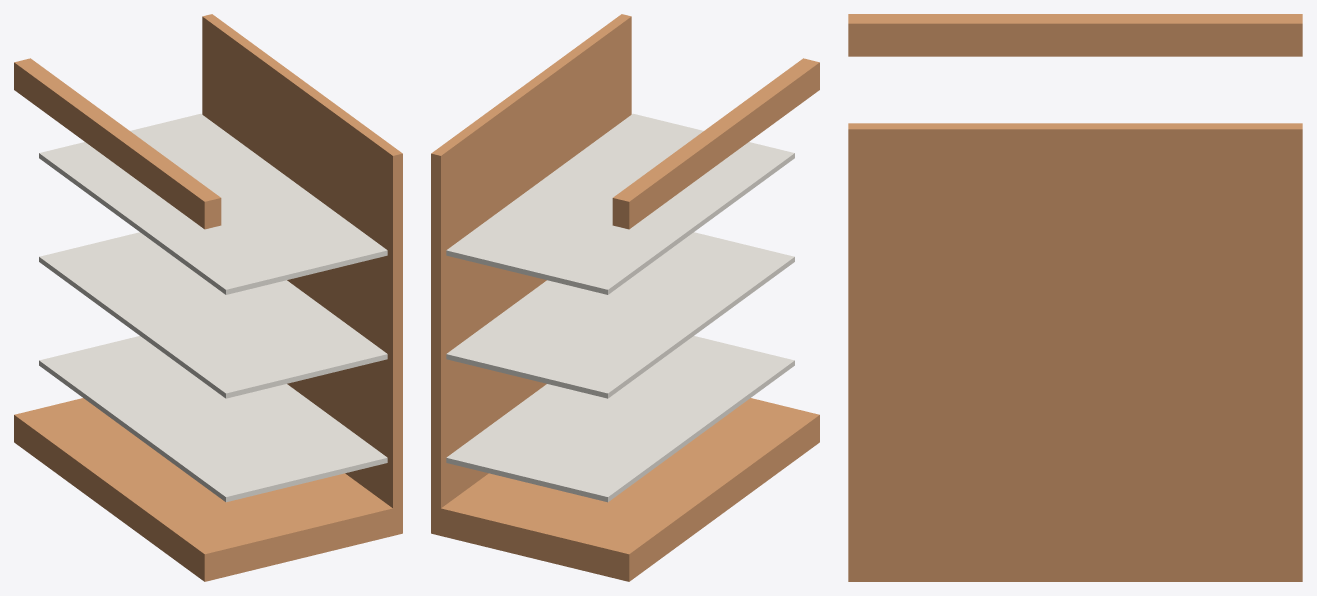
File: gondola.fbx
The picture shows the model from 3 angles, left to right: view 1: azimuth 30°, elevation 25°; view 2: azimuth 150°, elevation 25°; view 3: azimuth 270°, elevation 25°; orthographic projection. The views are drawn at different scales.
Parts seen in each view (by area): view 1: gondola; view 2: gondola; view 3: gondola.
Part boxes in pixels (left/top/right/bottom): gondola: left=14, top=14, right=402, bottom=581; gondola: left=431, top=14, right=819, bottom=581; gondola: left=848, top=14, right=1302, bottom=581.
Bounding box in the file's own units: 120 × 220 × 200.
